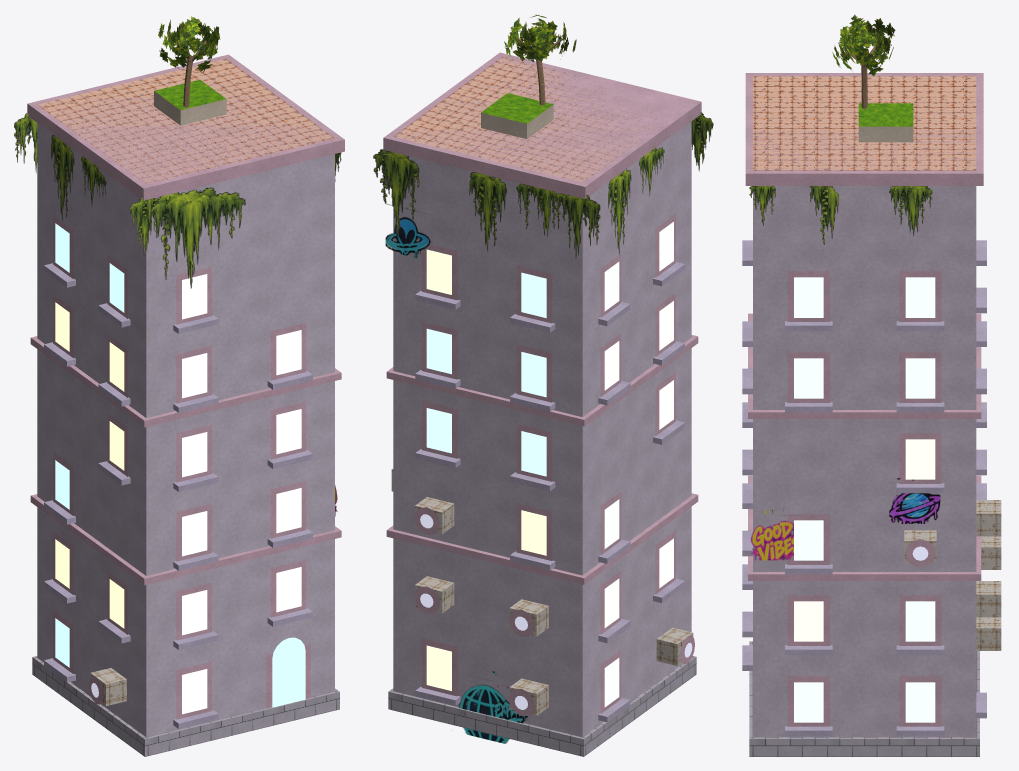
File: BUILDING_12.glb
The picture shows the model from 3 angles, left to right: view 1: azimuth 30°, elevation 25°; view 2: azimuth 150°, elevation 25°; view 3: azimuth 270°, elevation 25°; orthographic projection. The views are drawn at different scales.
Visible parts, largest first — view 1: B_AS_12_Skin, B_AS_12_Moss, BUILDING_12_Trees; view 2: B_AS_12_Skin, B_AS_12_Moss, BUILDING_12_Trees; view 3: B_AS_12_Skin, B_AS_12_Moss, BUILDING_12_Trees.
Boxes of the visible parts, box(x1,y1,x2,y2) form: B_AS_12_Skin: box(27, 54, 344, 756); B_AS_12_Moss: box(14, 112, 341, 288); BUILDING_12_Trees: box(158, 16, 220, 107); B_AS_12_Skin: box(383, 52, 701, 756); B_AS_12_Moss: box(373, 112, 713, 258); BUILDING_12_Trees: box(504, 14, 576, 105); B_AS_12_Skin: box(742, 73, 1001, 756); B_AS_12_Moss: box(749, 186, 932, 244); BUILDING_12_Trees: box(832, 15, 895, 108).
Size of the model in its own units: 11.28 by 31.1 by 10.57.
Materials: 13 (9 with a texture image).
